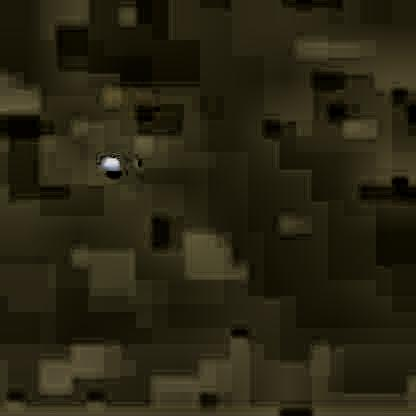golfball: (98, 152, 118, 174)
